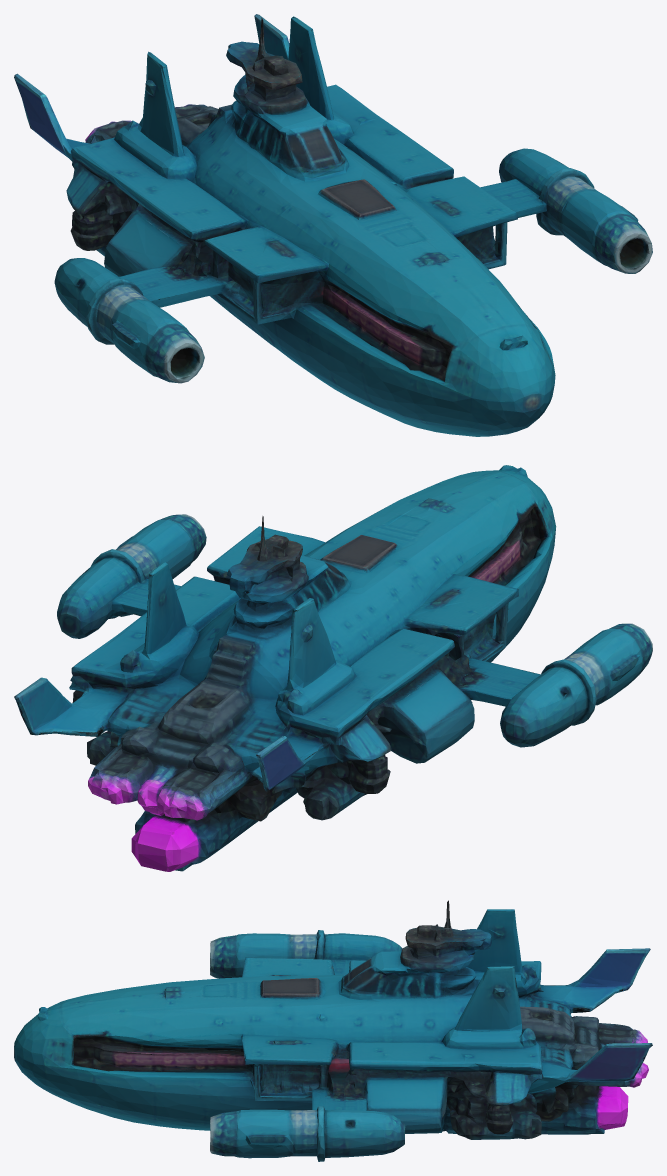
The model's file is Beluga Freighter.glb.
3 renders of one model, top to bottom at view 1: azimuth 30°, elevation 25°; view 2: azimuth 150°, elevation 25°; view 3: azimuth 270°, elevation 25°, orthographic. The views are drawn at different scales.
Parts seen in each view (by area): view 1: world; view 2: world; view 3: world.
Boxes of the visible parts, x1,y1,x2,y2 form: world: [14, 14, 652, 436]; world: [14, 465, 652, 871]; world: [14, 900, 652, 1161].
Bounding box in the file's own units: 0.7377 × 0.3955 × 1.
1 material, 1 textured.
